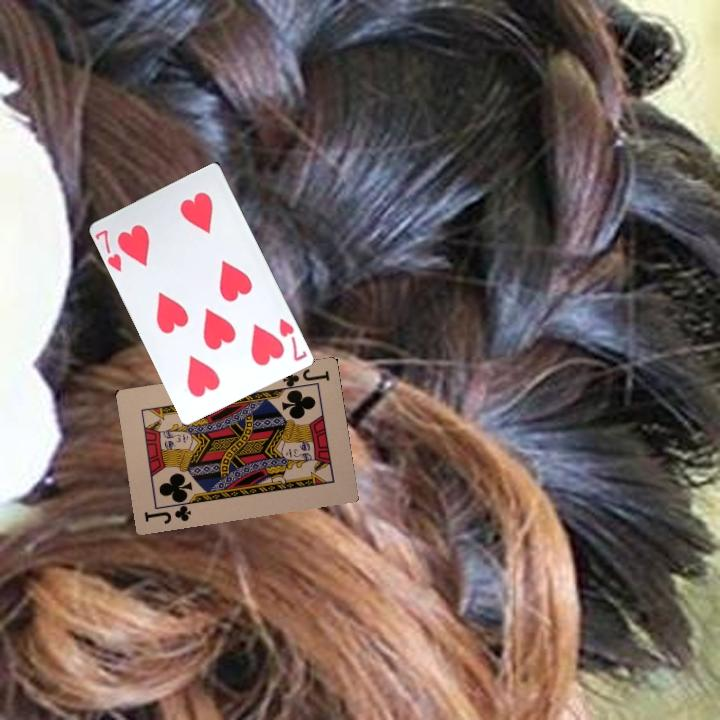7h: (275, 314, 310, 364), (92, 225, 125, 274)
Jc: (140, 497, 194, 527), (278, 365, 332, 393)
